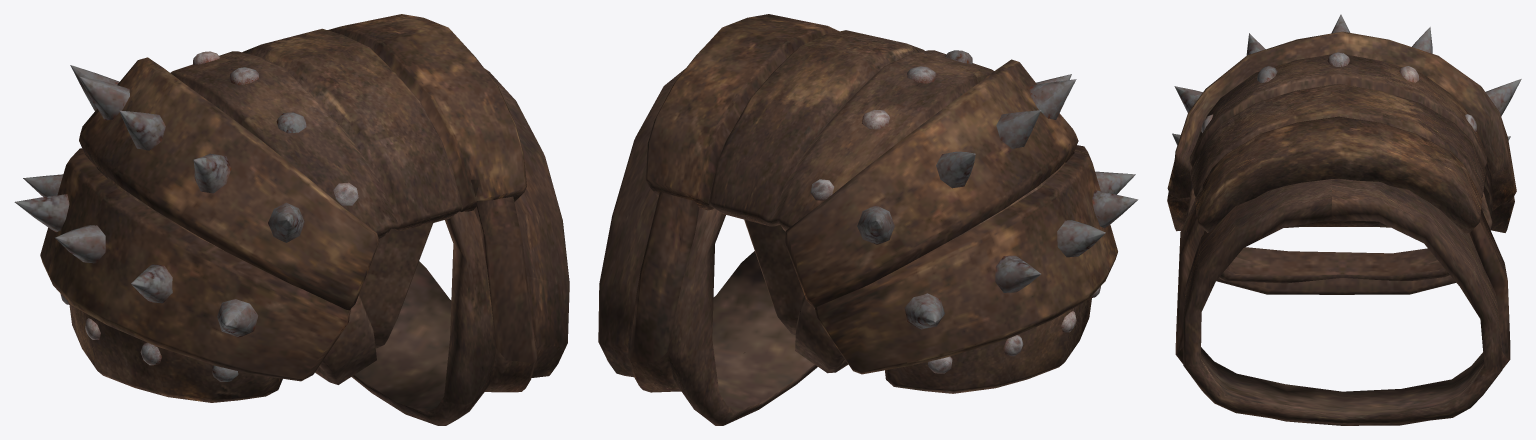
File: spikedcaestus.fbx
3 views of the same model, side by side, from view 1: azimuth 30°, elevation 25°; view 2: azimuth 150°, elevation 25°; view 3: azimuth 270°, elevation 25° (orthographic). The views are drawn at different scales.
Parts seen in each view (by area): view 1: WP_A_1153, WP_A_1153.001; view 2: WP_A_1153, WP_A_1153.001; view 3: WP_A_1153, WP_A_1153.001.
Boxes of the visible parts, box(x1,y1,x2,y2) form: WP_A_1153: box(40, 14, 569, 425); WP_A_1153.001: box(14, 51, 358, 381); WP_A_1153: box(598, 14, 1117, 425); WP_A_1153.001: box(810, 50, 1138, 373); WP_A_1153: box(1167, 31, 1516, 425); WP_A_1153.001: box(1172, 14, 1521, 145).
Bounding box in the file's own units: 16.03 × 12.62 × 13.69.
Materials: 2 (2 with a texture image).
